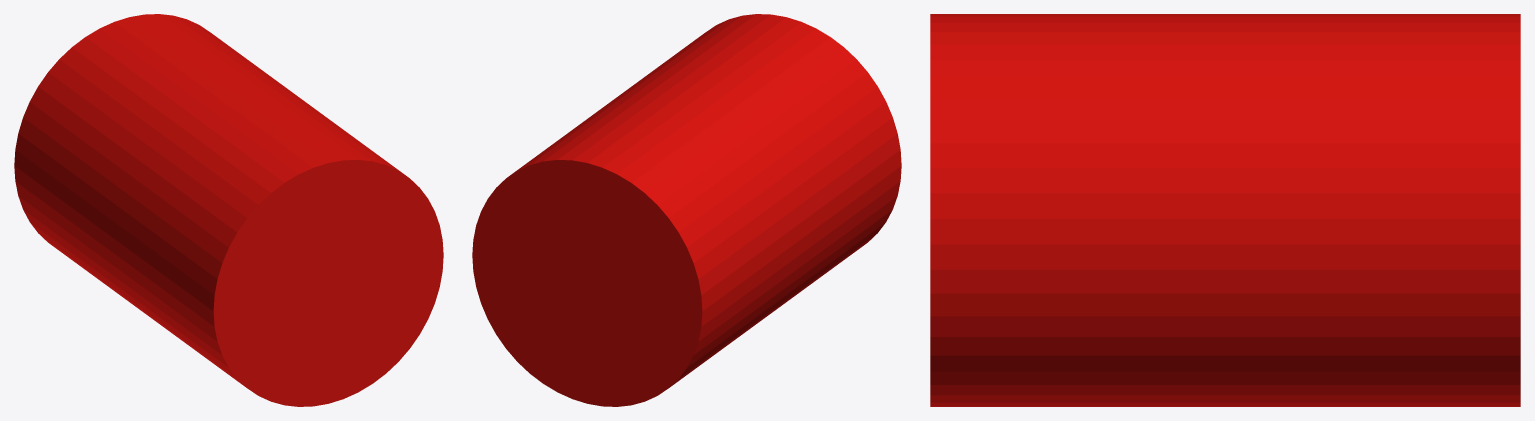
The model's file is filter_indicator_clogged.glb.
3 views of the same model, side by side, from view 1: azimuth 30°, elevation 25°; view 2: azimuth 150°, elevation 25°; view 3: azimuth 270°, elevation 25° (orthographic). The views are drawn at different scales.
Parts seen in each view (by area): view 1: filter_indicator_clogged; view 2: filter_indicator_clogged; view 3: filter_indicator_clogged.
Part boxes in pixels (x1,y1,x2,y2): filter_indicator_clogged: [14, 14, 443, 406]; filter_indicator_clogged: [472, 14, 901, 406]; filter_indicator_clogged: [930, 14, 1520, 406].
Bounding box in the file's own units: 0.04 × 0.04 × 0.06.
